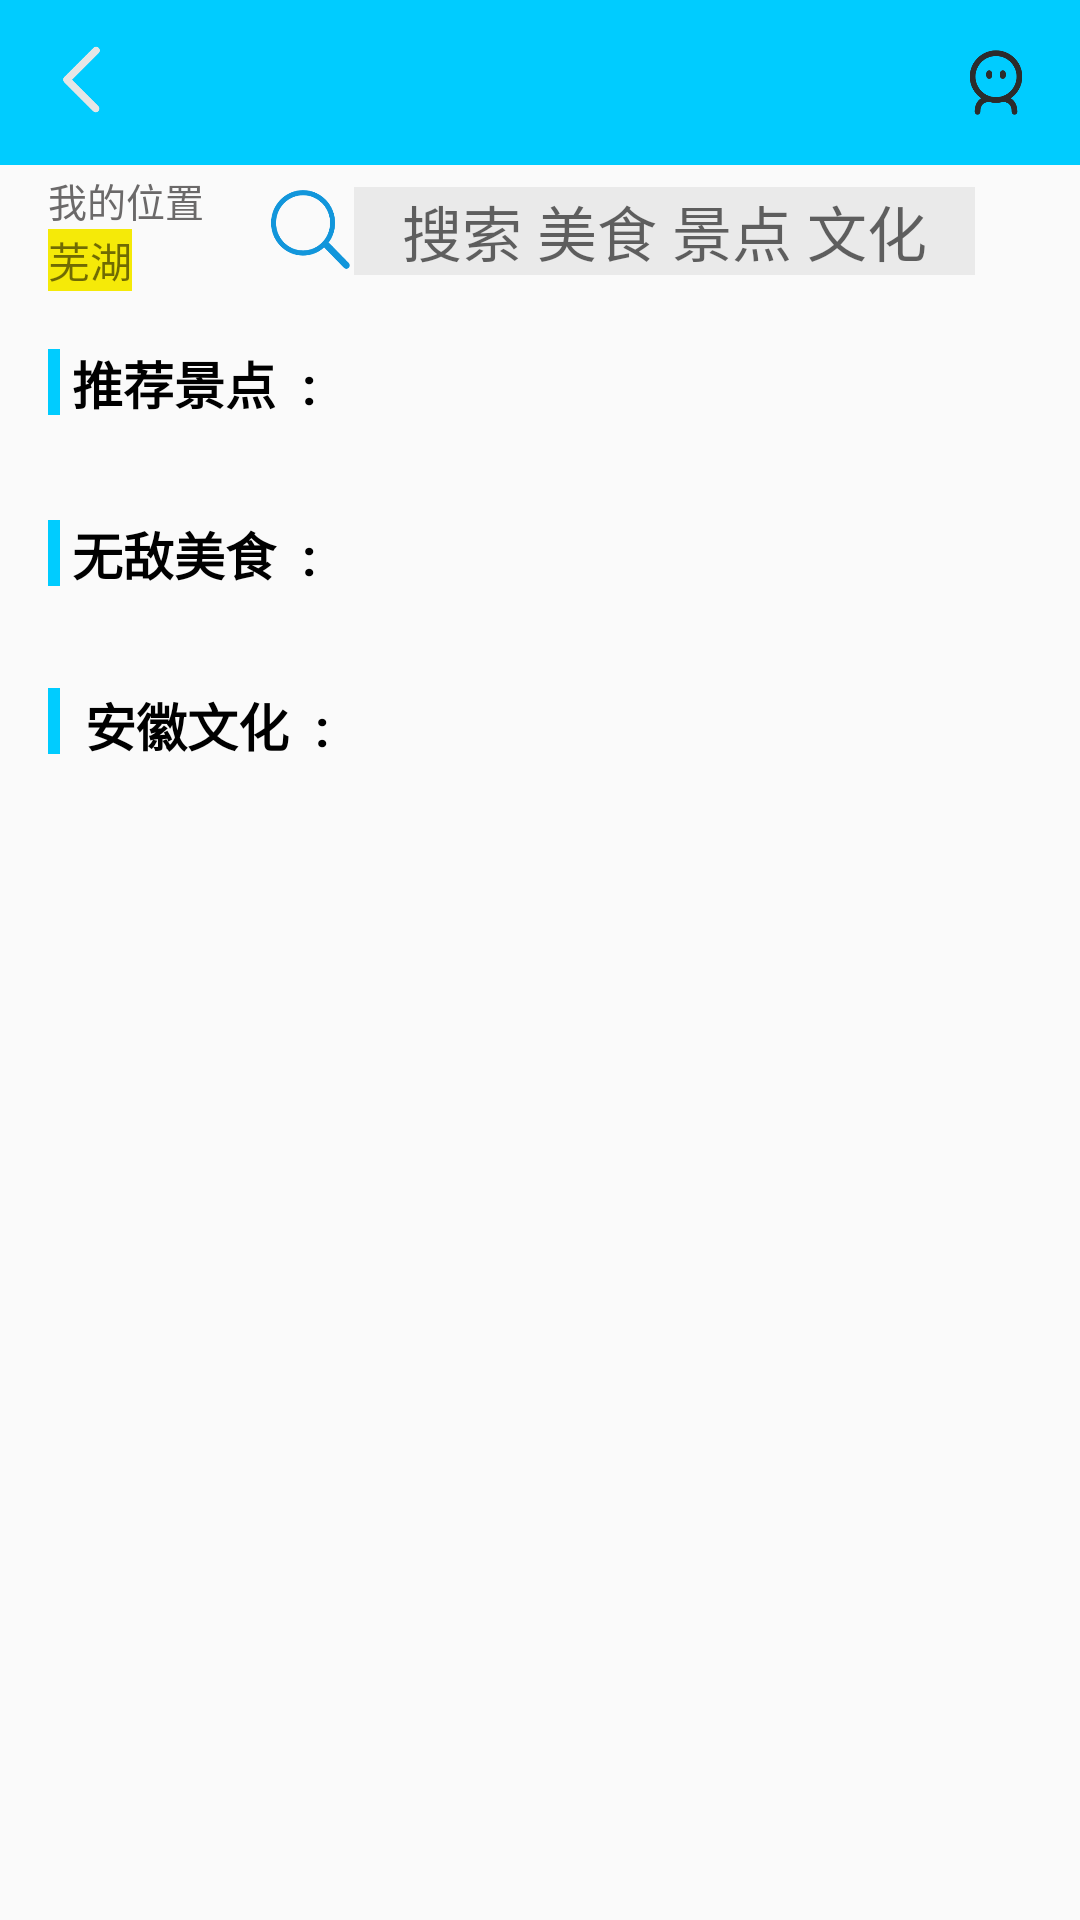

Where icons sit on this 1080*1920 app screen, as (left=x1, top=y1, right=x2, bottom=y2):
back: (left=63, top=46, right=100, bottom=113)
search: (left=271, top=190, right=350, bottom=269)
